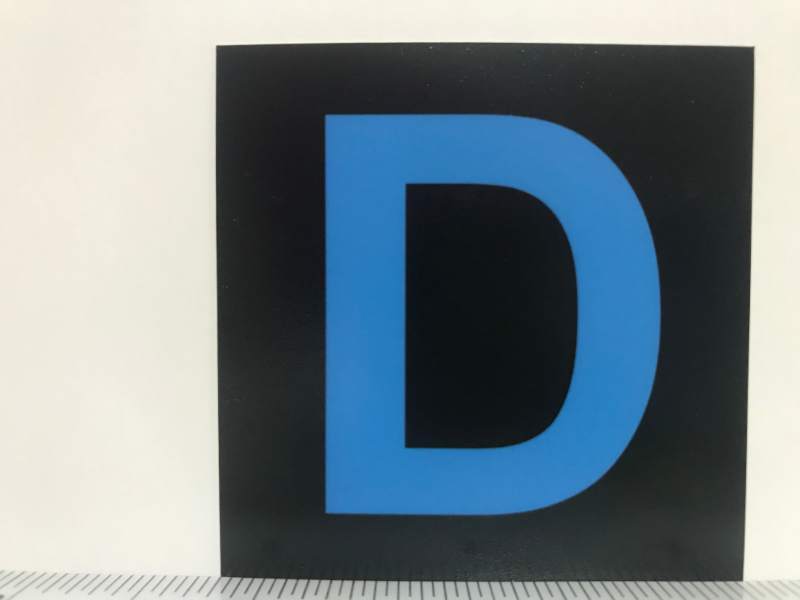D-14: (223, 51, 742, 579)
